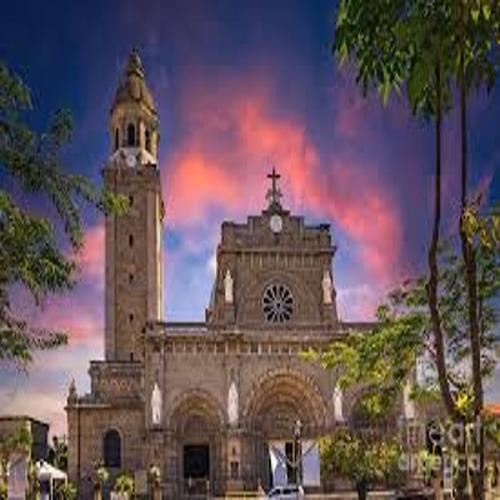Manila Cathedral Church: (44, 35, 425, 497)
